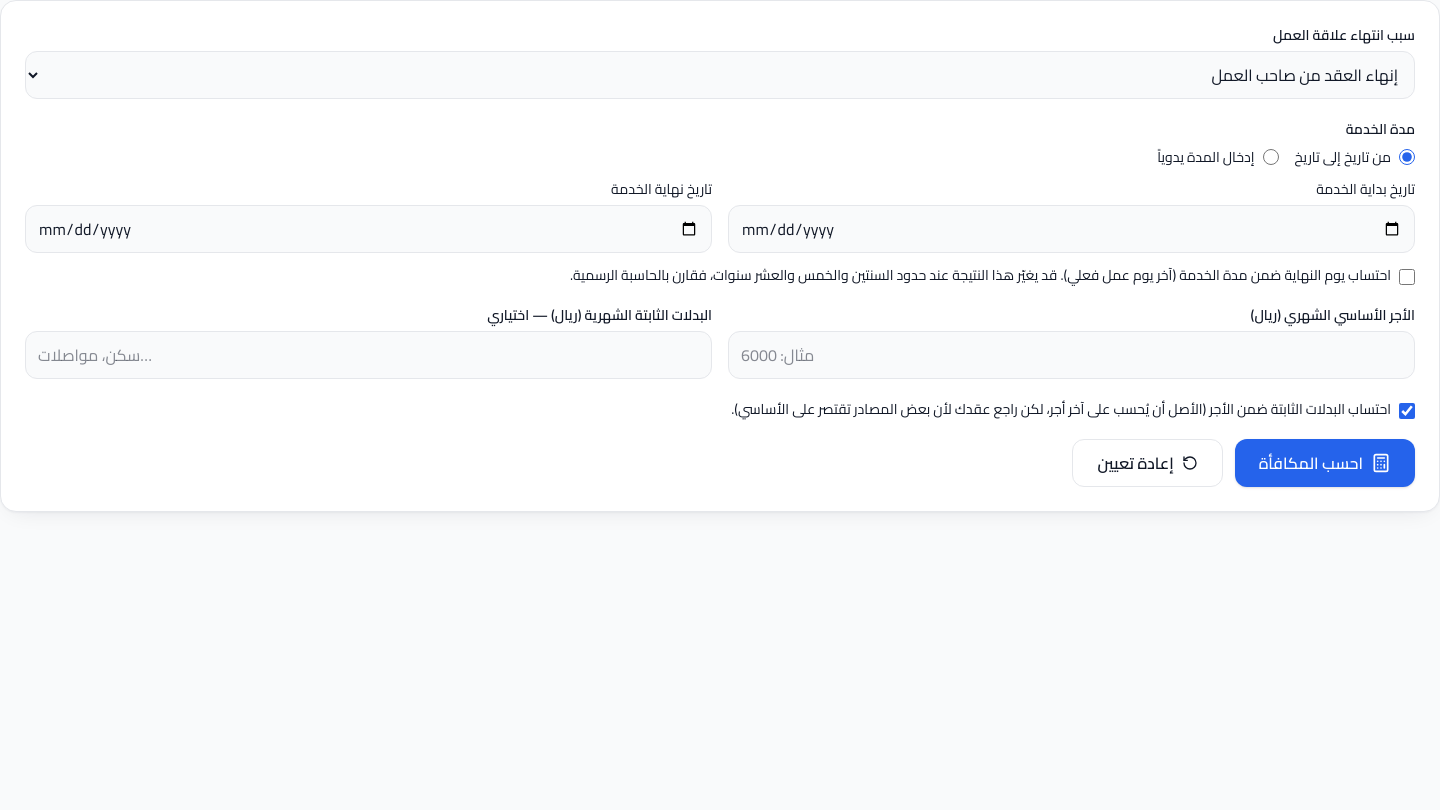
Test: EosCalculator › validates input wage= years= with a clear Arabic error
This screenshot has width=1440, height=810.
Click the radio button labelled "إدخال المدة يدوياً".
click(1270, 157)  # box top-left (1262, 149), bottom-right (1278, 165)
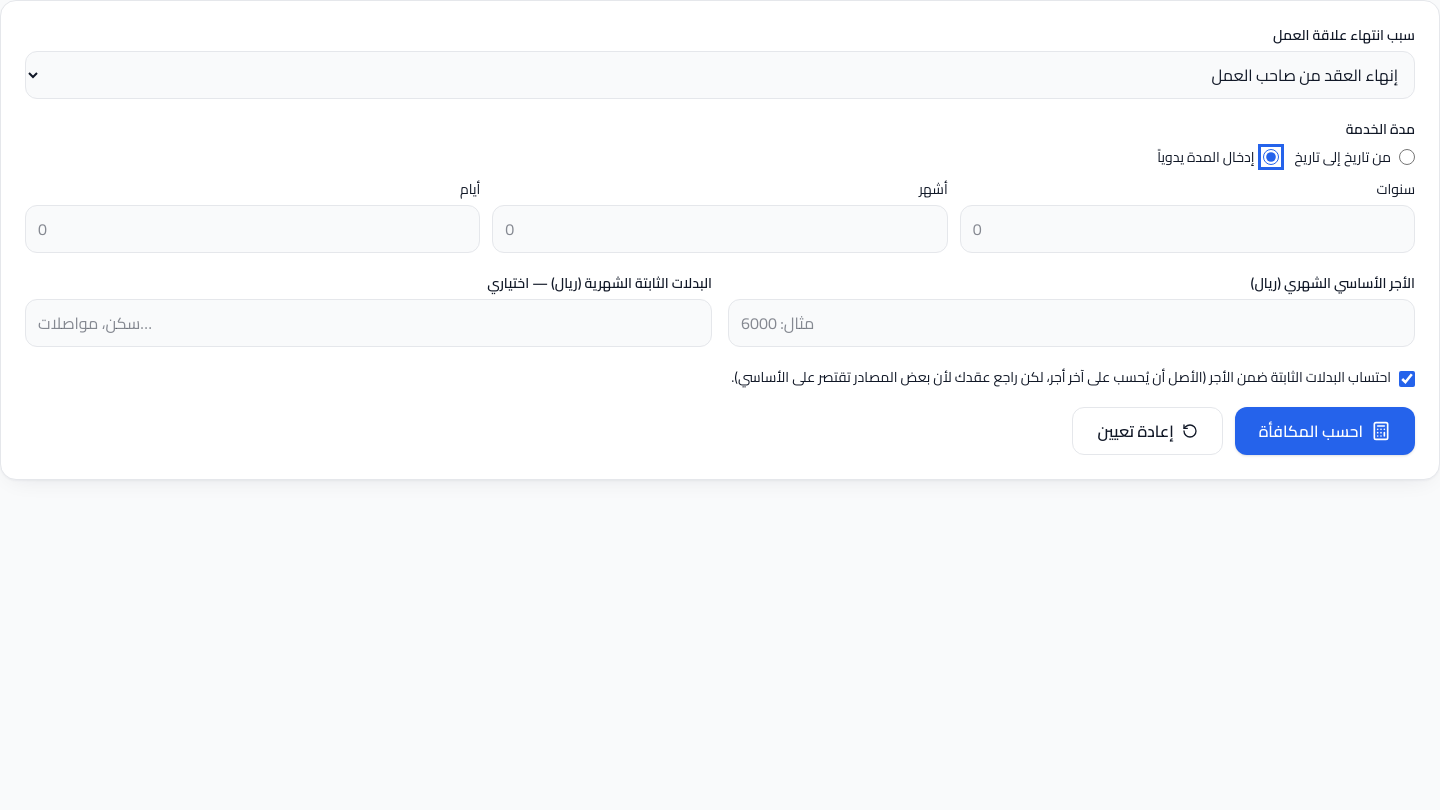
Click the button "احسب المكافأة".
click(1325, 431)  # box top-left (1235, 407), bottom-right (1415, 455)
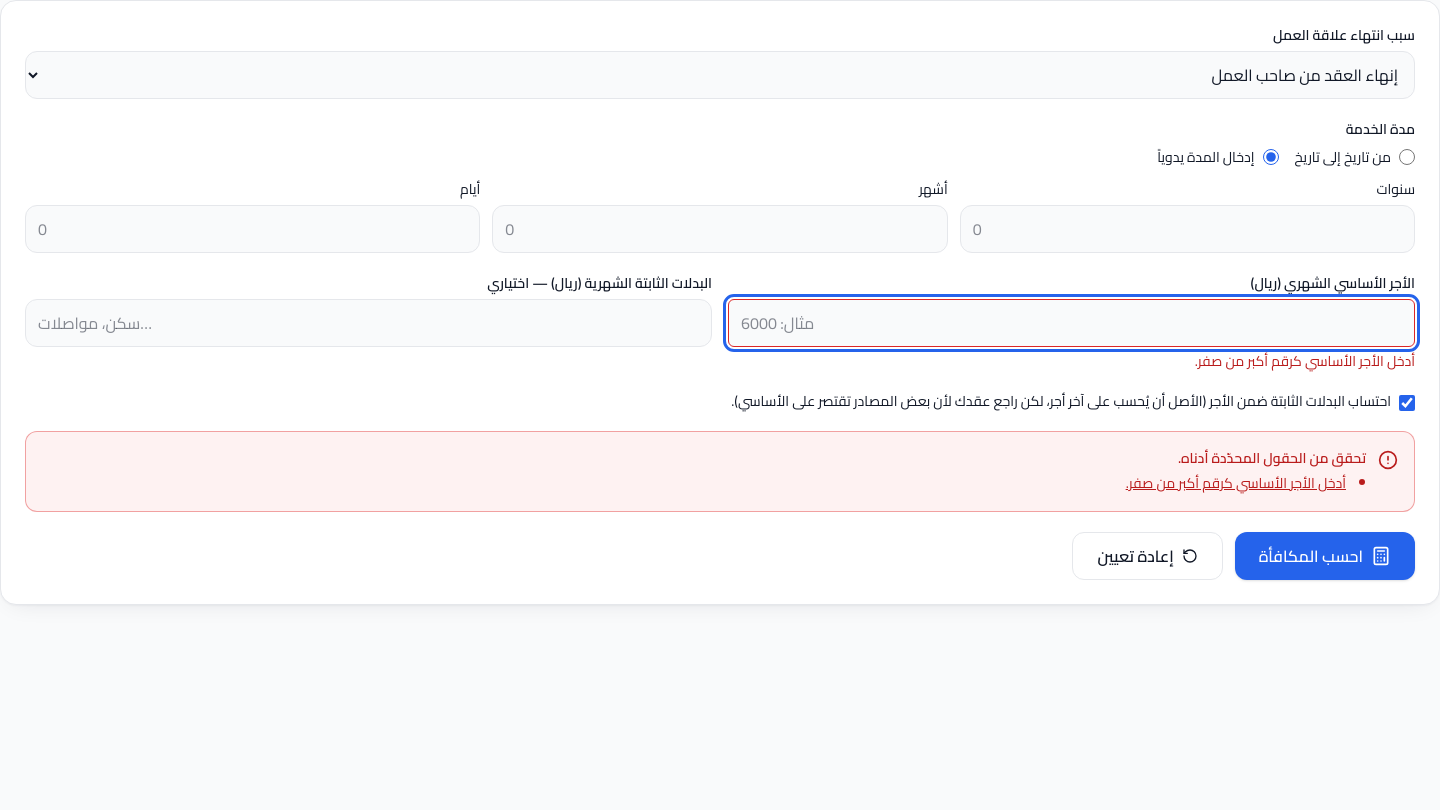
Result: the message shows "أدخل الأجر الأساسي" at top-left (1126, 470), bottom-right (1346, 496)
